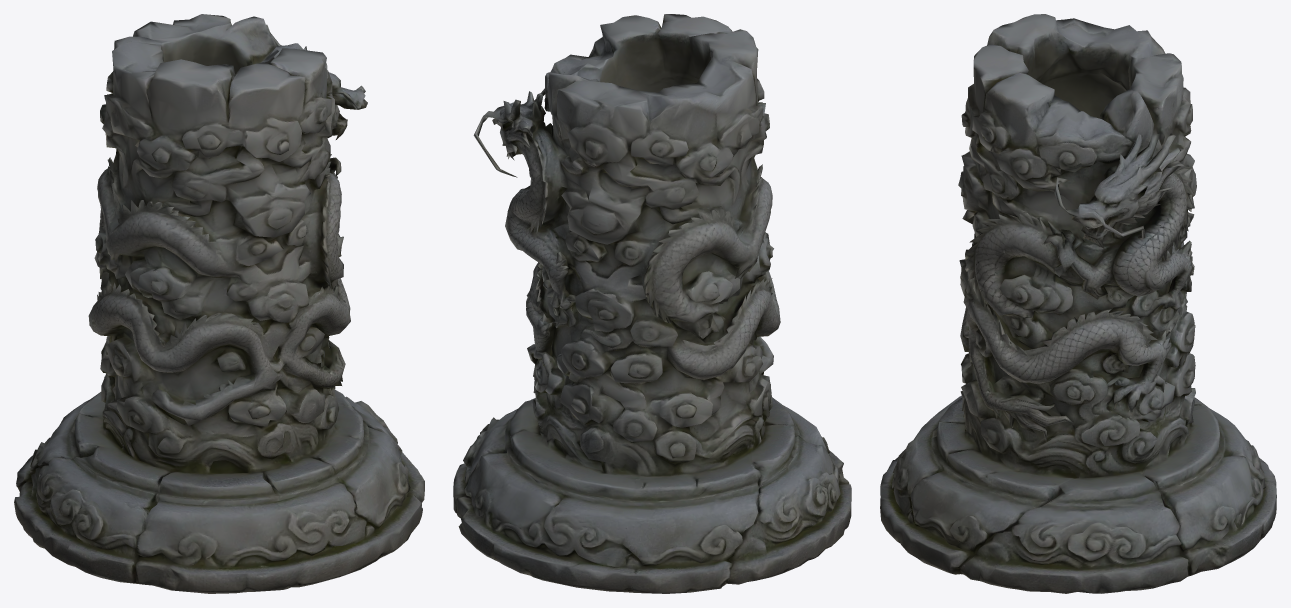
The picture shows the model from 3 angles, left to right: view 1: azimuth 30°, elevation 25°; view 2: azimuth 150°, elevation 25°; view 3: azimuth 270°, elevation 25°; orthographic projection. The views are drawn at different scales.
Visible parts, largest first — view 1: tripo_node_050a31db-063c-44dd-9d9d-82f8d8a2ae14; view 2: tripo_node_050a31db-063c-44dd-9d9d-82f8d8a2ae14; view 3: tripo_node_050a31db-063c-44dd-9d9d-82f8d8a2ae14.
Part boxes in pixels (left/top/right/bottom): tripo_node_050a31db-063c-44dd-9d9d-82f8d8a2ae14: left=14, top=14, right=424, bottom=593; tripo_node_050a31db-063c-44dd-9d9d-82f8d8a2ae14: left=453, top=14, right=851, bottom=593; tripo_node_050a31db-063c-44dd-9d9d-82f8d8a2ae14: left=880, top=14, right=1276, bottom=593.
Bounding box in the file's own units: 0.7836 × 1 × 0.7806.
Materials: 1 (1 with a texture image).
